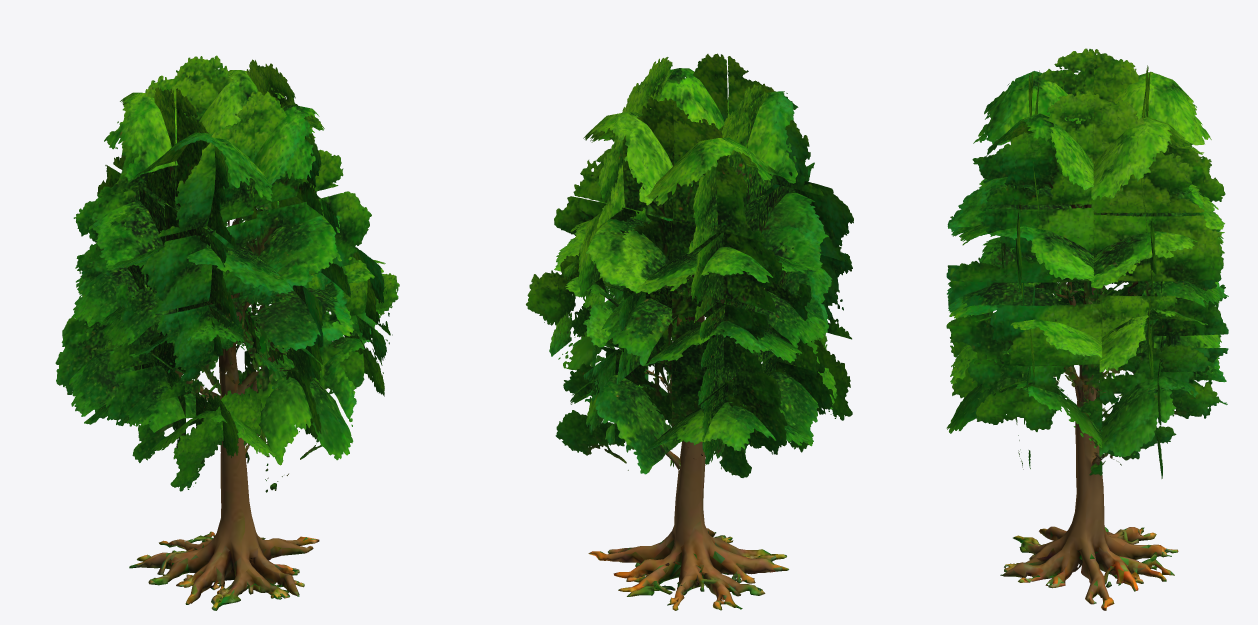
Rendered from tree-4815-near.glb.
The picture shows the model from 3 angles, left to right: view 1: azimuth 30°, elevation 25°; view 2: azimuth 150°, elevation 25°; view 3: azimuth 270°, elevation 25°; orthographic projection.
Visible parts, largest first — view 1: Foliage, Wood; view 2: Foliage, Wood; view 3: Foliage, Wood.
Boxes of the visible parts, left/top/right/bottom form: Foliage: left=55, top=55, right=399, bottom=492; Wood: left=129, top=217, right=319, bottom=610; Foliage: left=526, top=53, right=853, bottom=477; Wood: left=588, top=274, right=788, bottom=610; Foliage: left=946, top=48, right=1228, bottom=478; Wood: left=1000, top=204, right=1178, bottom=610.
Size of the model in its own units: 7.66 by 12.14 by 6.89.
2 materials, 2 textured.
